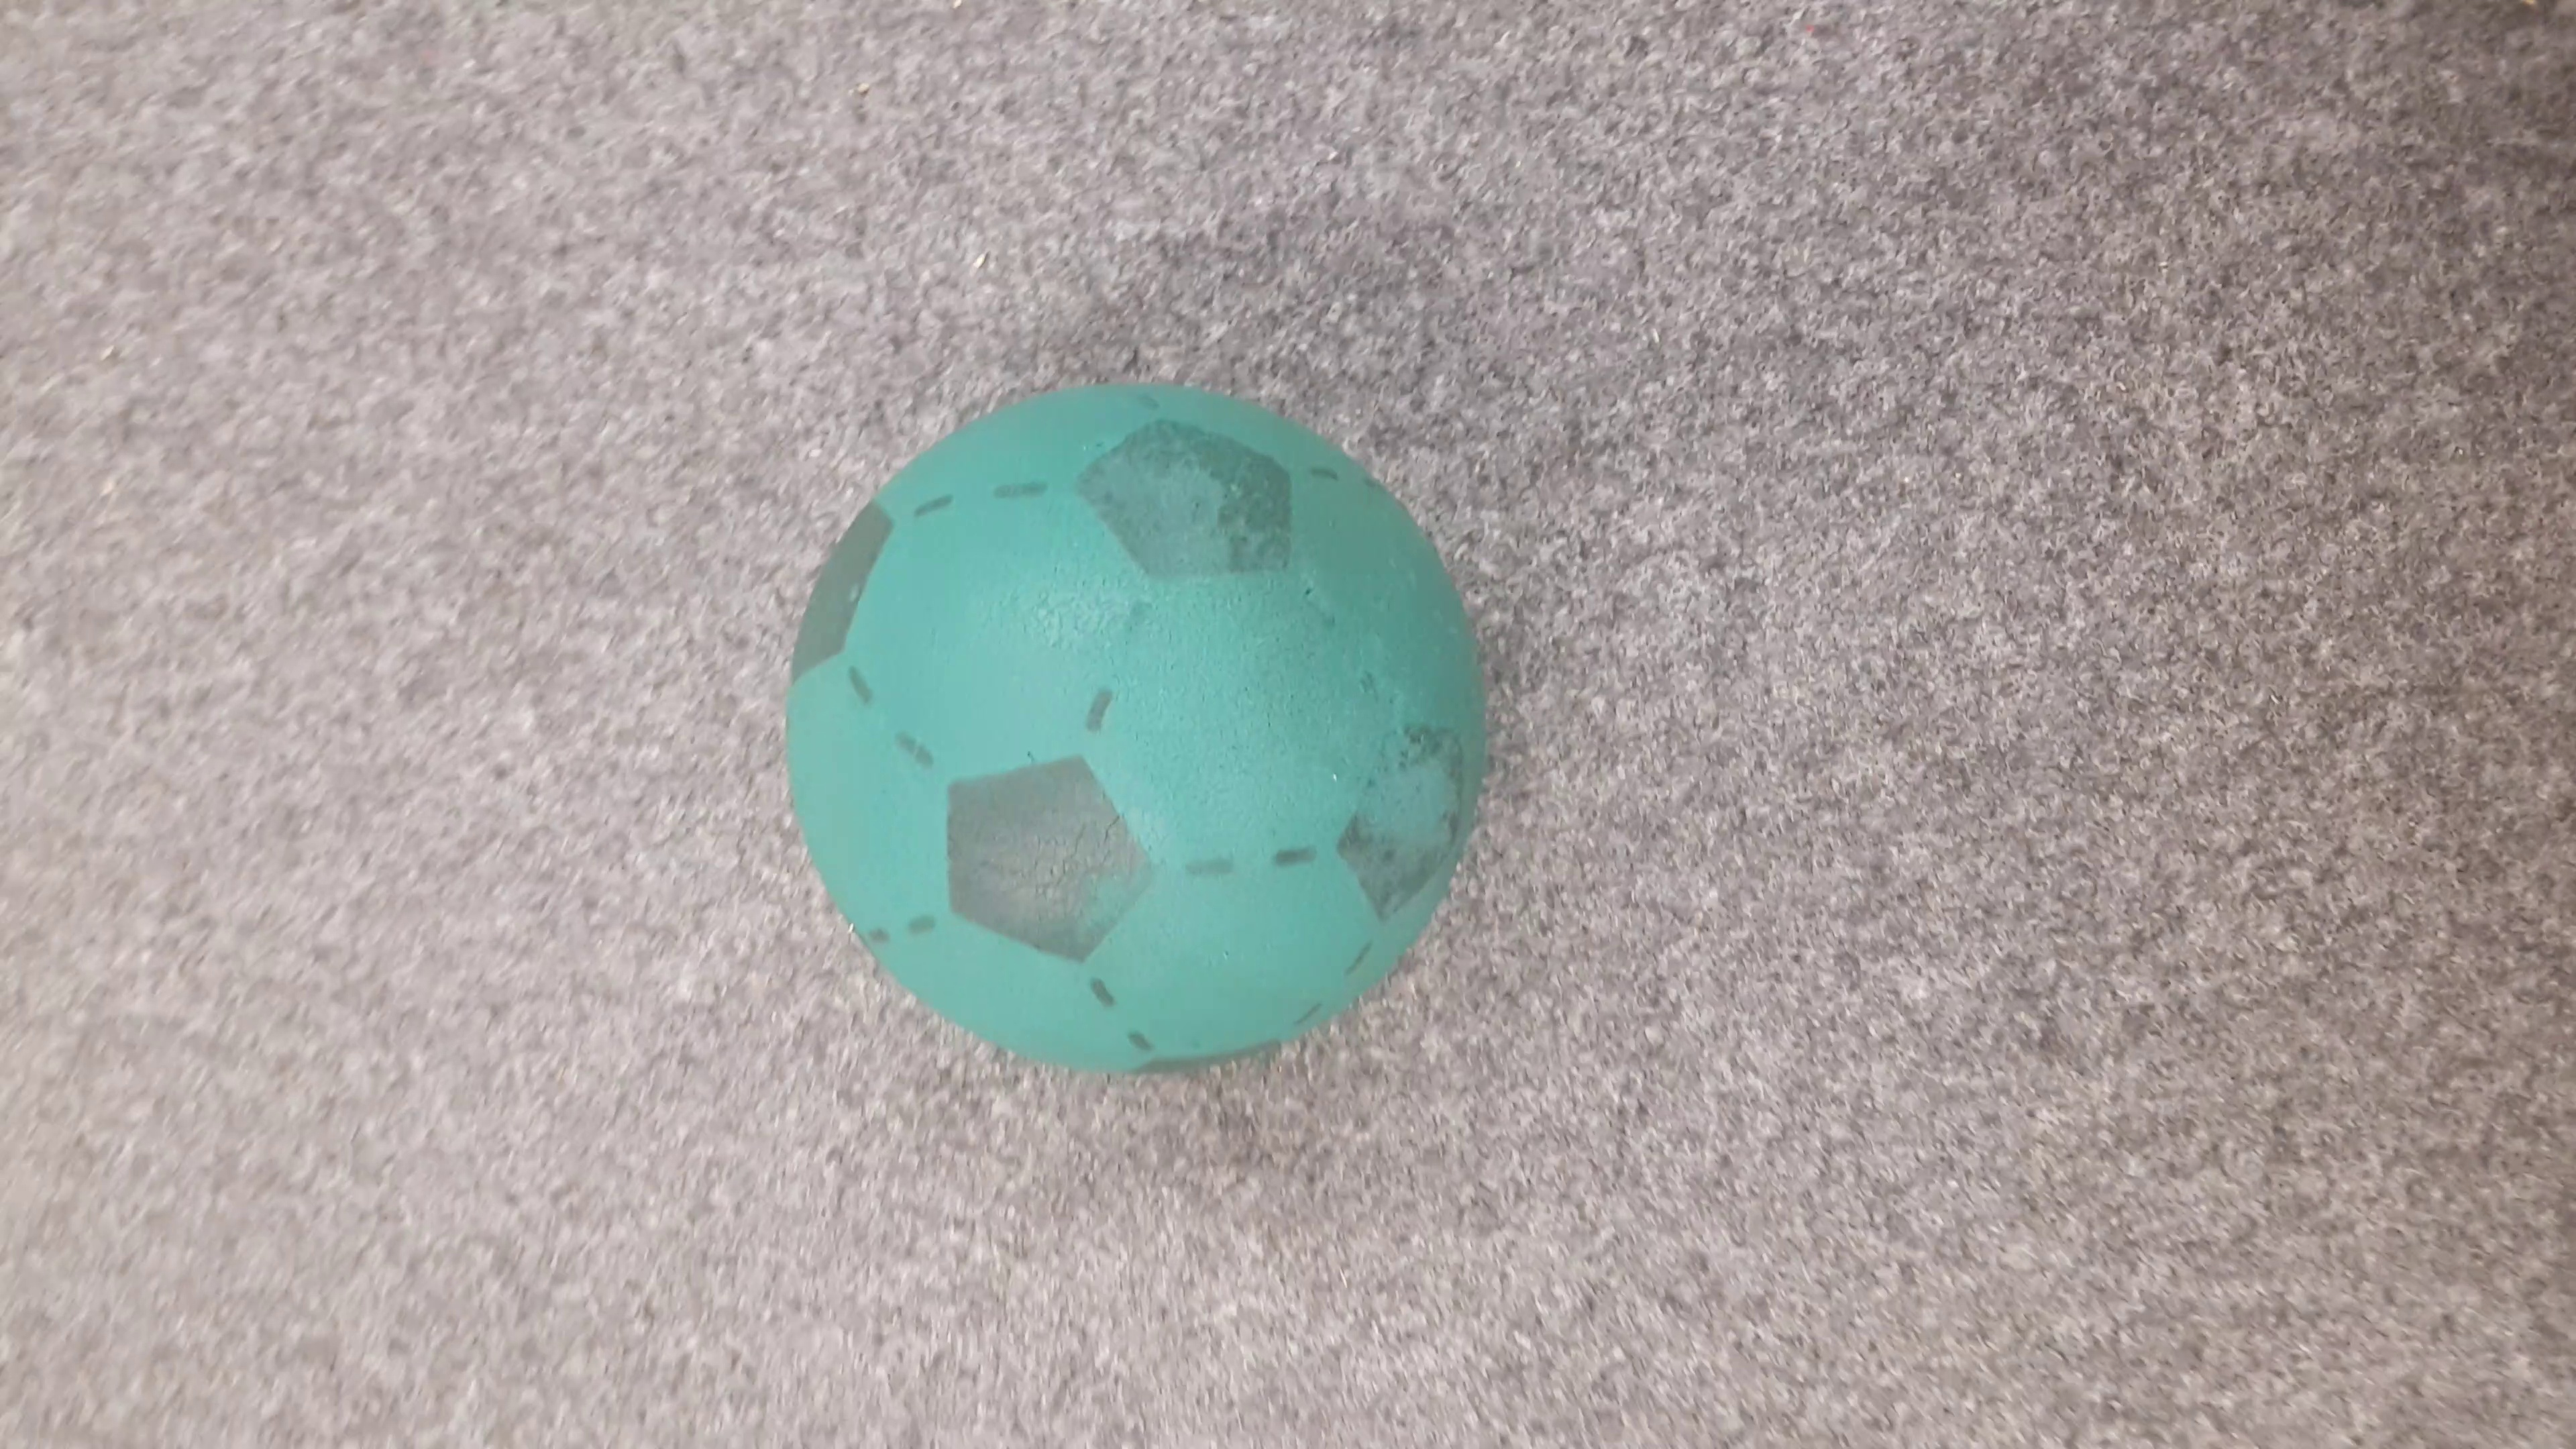kick: (794, 377, 1483, 1060)
